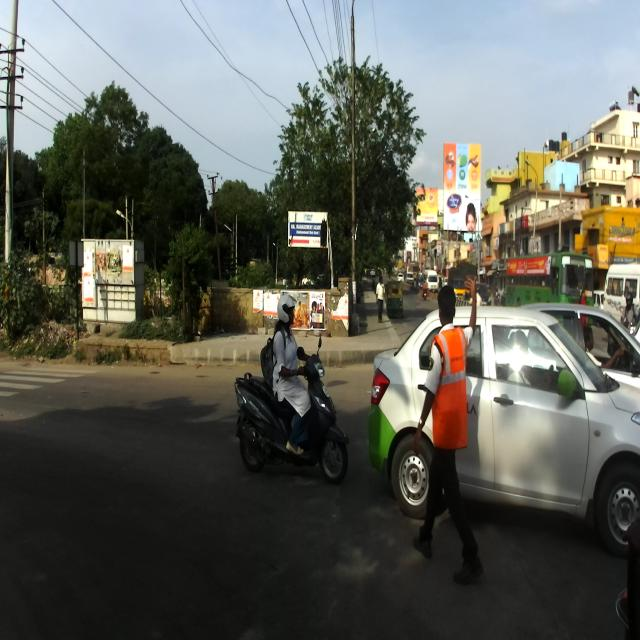car ahead at: (371, 301, 640, 569)
motorcycle ahead at: (229, 339, 351, 489)
person ahead at: (423, 273, 491, 584)
